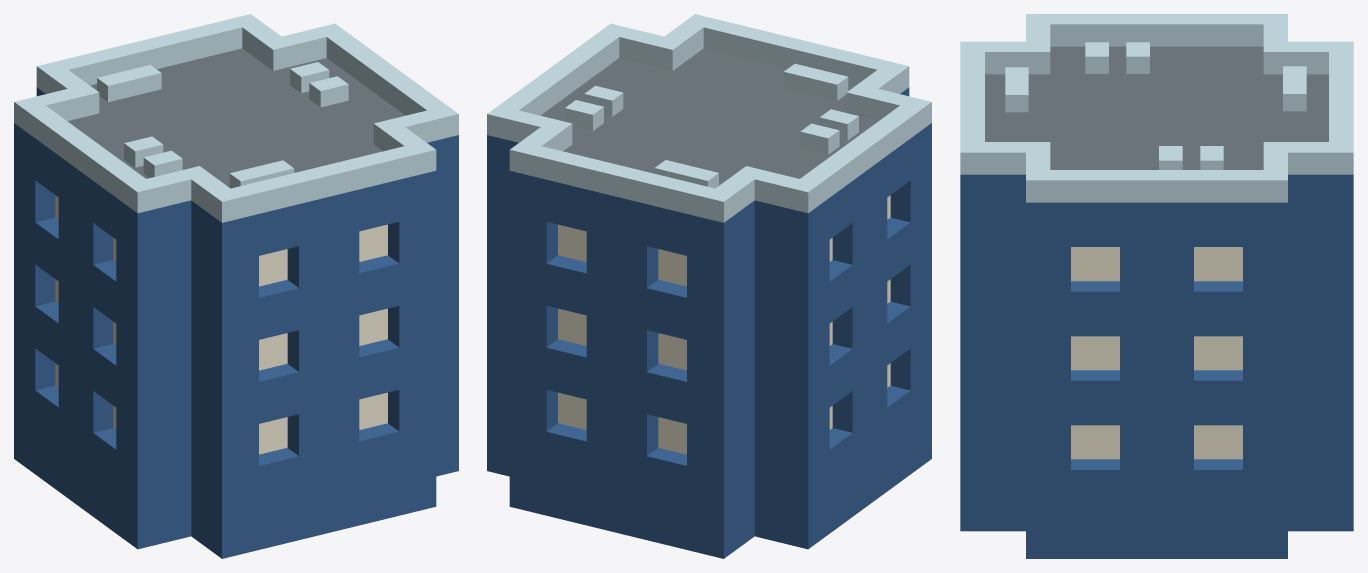
The model's file is Building_4_Extra (Blue).obj.
3 views of the same model, side by side, from view 1: azimuth 30°, elevation 25°; view 2: azimuth 150°, elevation 25°; view 3: azimuth 270°, elevation 25° (orthographic). The views are drawn at different scales.
Visible parts, largest first — view 1: Building_4_Extra_(Blue); view 2: Building_4_Extra_(Blue); view 3: Building_4_Extra_(Blue).
Boxes of the visible parts, x1,y1,x2,y2 form: Building_4_Extra_(Blue): (14, 14, 458, 558); Building_4_Extra_(Blue): (487, 14, 931, 558); Building_4_Extra_(Blue): (960, 14, 1353, 558).
Bounding box in the file's own units: 1.6 × 1.7 × 1.6.
